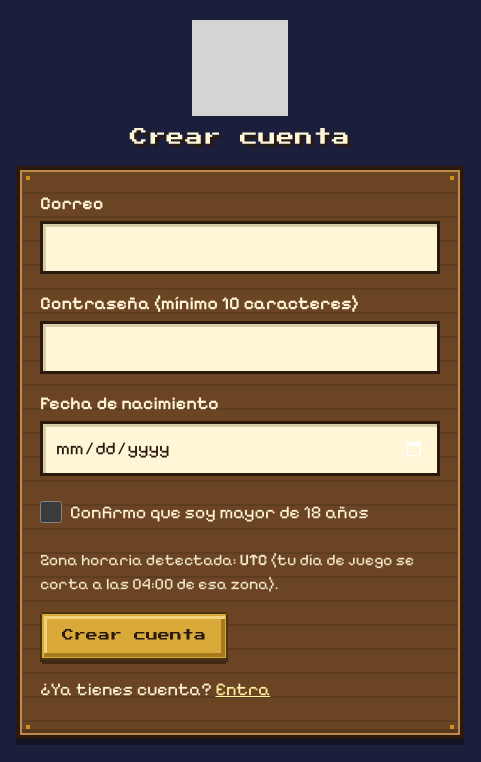
Test: Registro › exige contraseña de 10+ caracteres y la confirmación
In the password field labelled "Contraseña (mínimo 10 caracteres)": (240, 348) [40,321,440,374], type "corta"
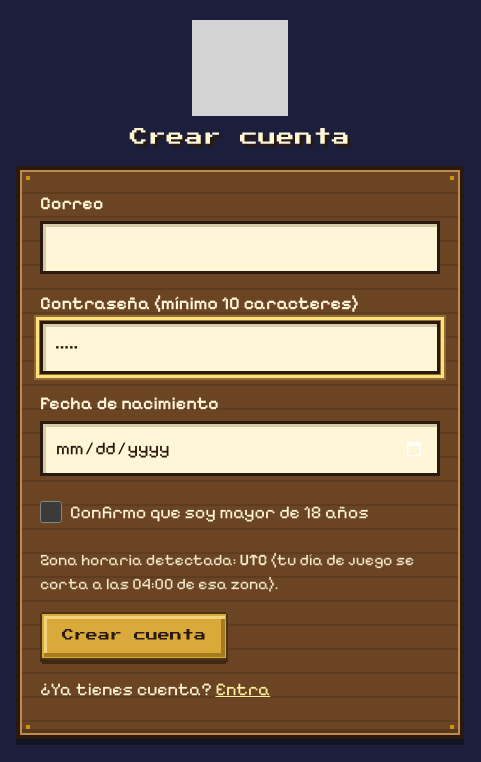
Click the button "Crear cuenta": (134, 636) [40,612,228,660]
(page scrolled)
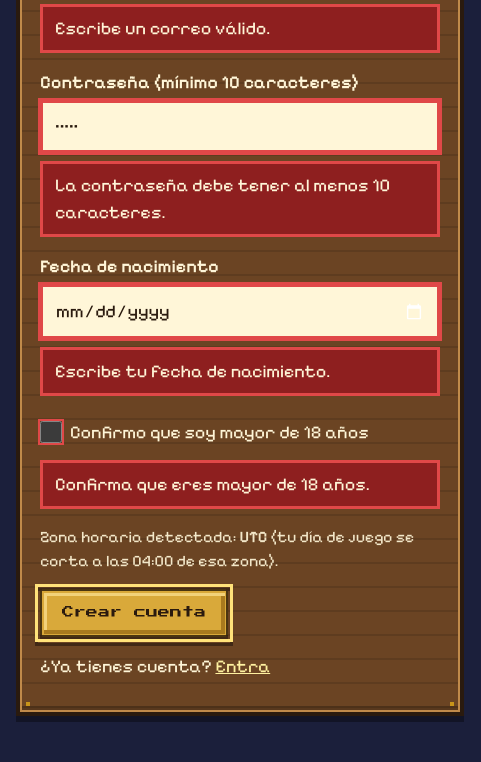
Expected: the text "La contraseña debe tener al menos 10 caracteres." is shown, [40,161,440,237]
Expected: the text "Confirma que eres mayor de 18 años." is shown, [40,460,440,509]
